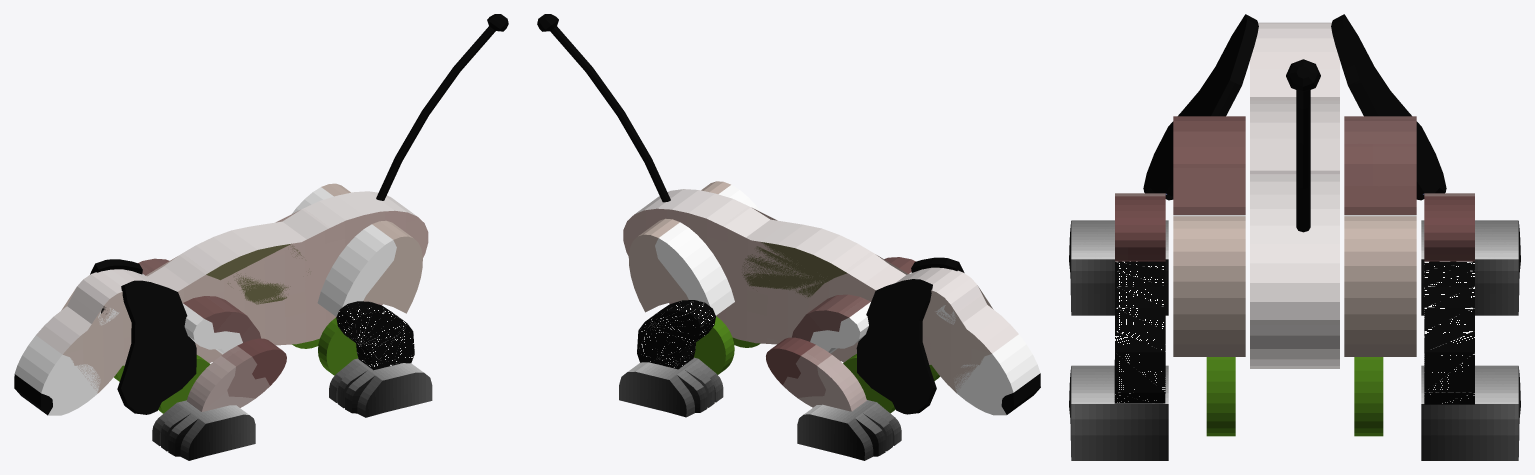
The model's file is DOG.fbx.
The picture shows the model from 3 angles, left to right: view 1: azimuth 30°, elevation 25°; view 2: azimuth 150°, elevation 25°; view 3: azimuth 270°, elevation 25°; orthographic projection. The views are drawn at different scales.
Visible parts, largest first — view 1: Cylinder; view 2: Cylinder; view 3: Cylinder.
Boxes of the visible parts, <box> form: Cylinder: <box>14,14,508,460</box>; Cylinder: <box>537,14,1040,460</box>; Cylinder: <box>1069,14,1520,460</box>.
Bounding box in the file's own units: 0.648 × 0.389 × 0.3123.
